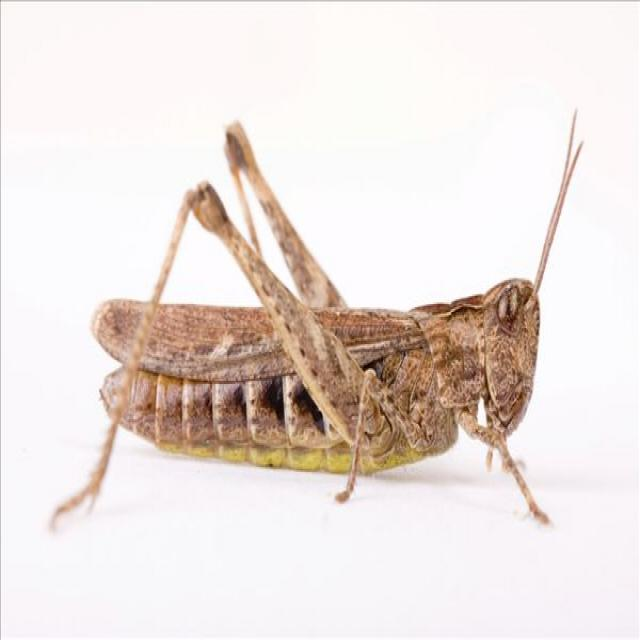ZhaMeng: (81, 262, 560, 484)
